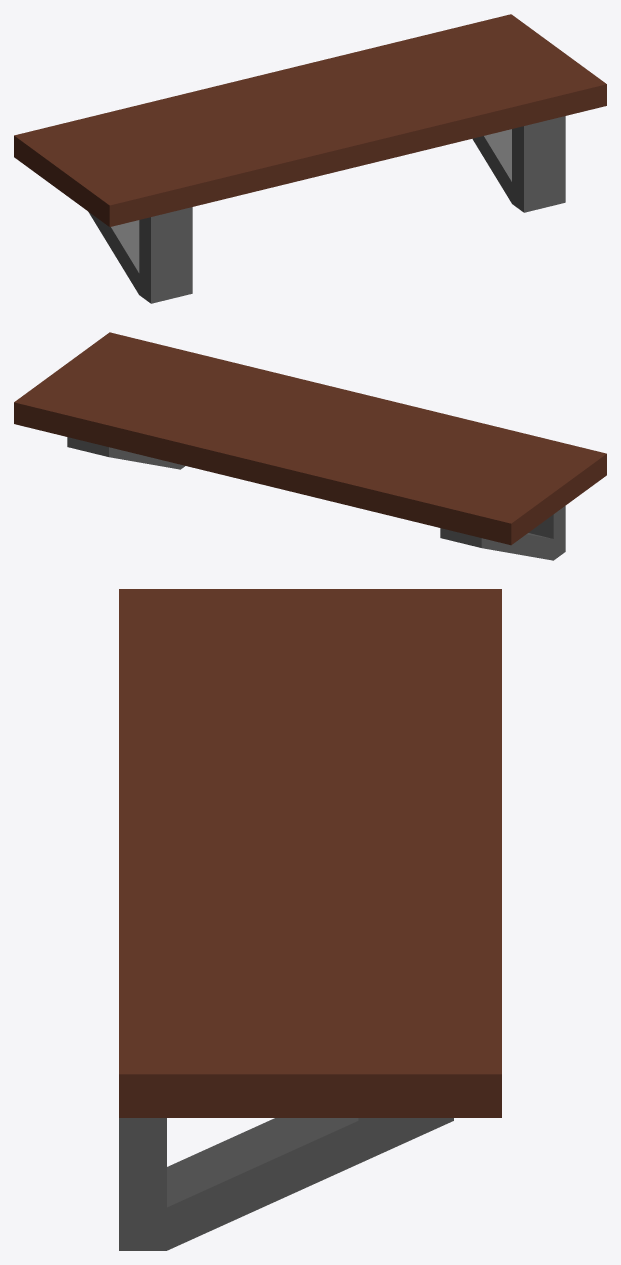
The model's file is EstantePared.fbx.
3 renders of one model, top to bottom at view 1: azimuth 30°, elevation 25°; view 2: azimuth 150°, elevation 25°; view 3: azimuth 270°, elevation 25°, orthographic. The views are drawn at different scales.
Parts seen in each view (by area): view 1: Cubo; view 2: Cubo; view 3: Cubo.
Boxes of the visible parts, box(x1,y1,x2,y2) form: Cubo: box(14, 14, 606, 303); Cubo: box(14, 332, 606, 560); Cubo: box(119, 589, 501, 1250).
Size of the model in its own units: 1200 by 250 by 400.
